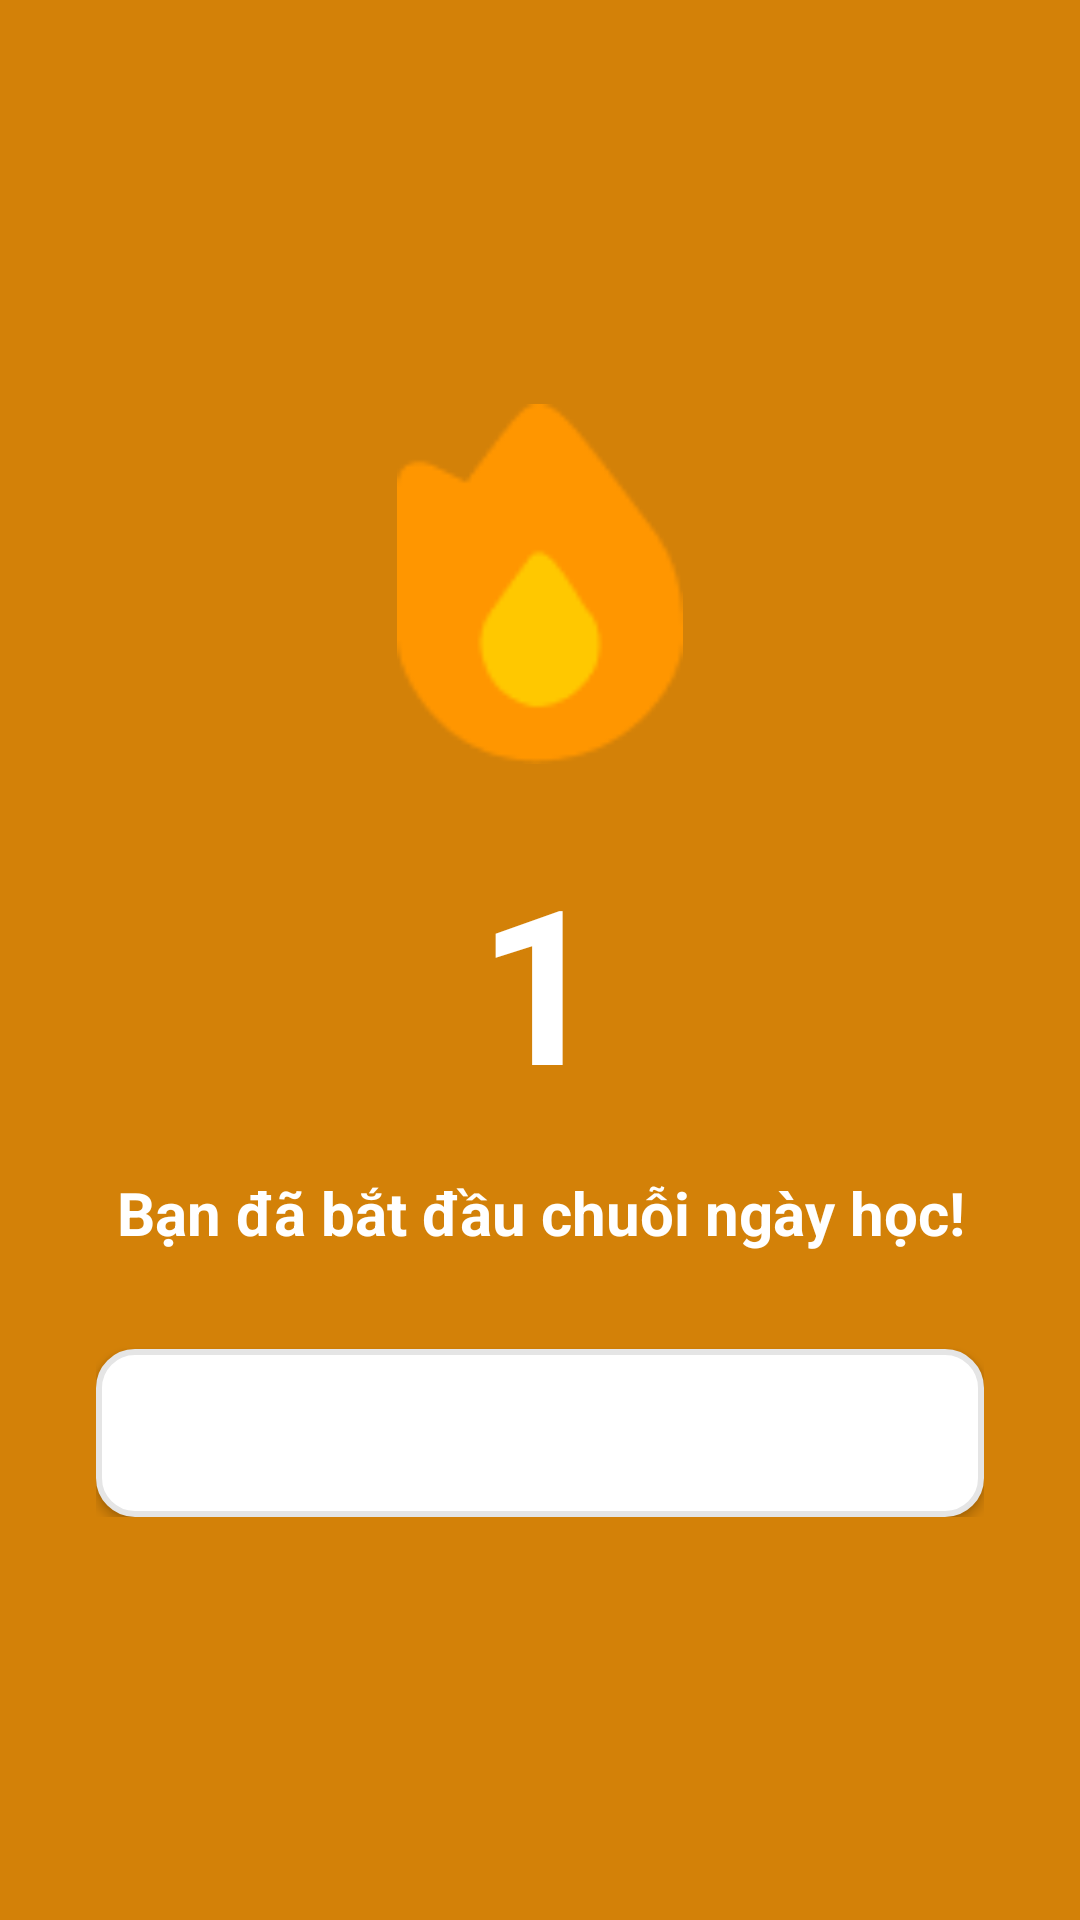

Where icons sit on this 1080x1920 app screen, as Rect(x1, y1, x2, y2):
fire: Rect(397, 404, 683, 760)
